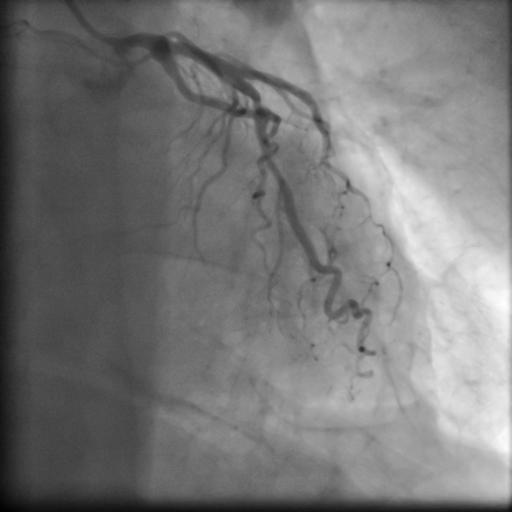Stenosis: (236, 102, 269, 121)
